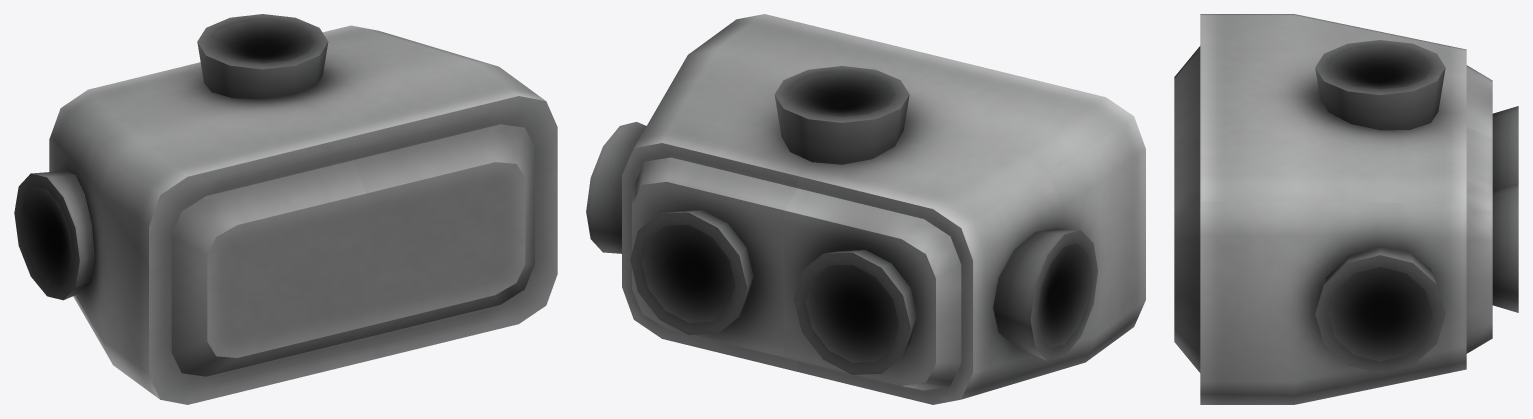
The model's file is Tantares_MOE_2_E.obj.
3 views of the same model, side by side, from view 1: azimuth 30°, elevation 25°; view 2: azimuth 150°, elevation 25°; view 3: azimuth 270°, elevation 25° (orthographic). The views are drawn at different scales.
Visible parts, largest first — view 1: Tantares_MOE_2_E; view 2: Tantares_MOE_2_E; view 3: Tantares_MOE_2_E.
Part boxes in pixels (x1=…): Tantares_MOE_2_E: x1=14, y1=14, x2=557, y2=404; Tantares_MOE_2_E: x1=586, y1=14, x2=1145, y2=404; Tantares_MOE_2_E: x1=1174, y1=14, x2=1518, y2=404.
Size of the model in its own units: 0.2375 by 0.135 by 0.165.
